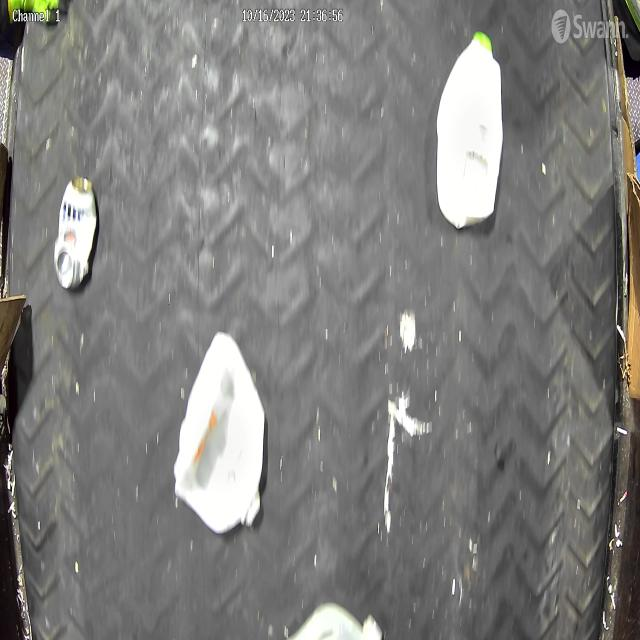can: (53, 173, 98, 290)
milk_jug: (173, 330, 267, 534), (436, 28, 504, 230)
